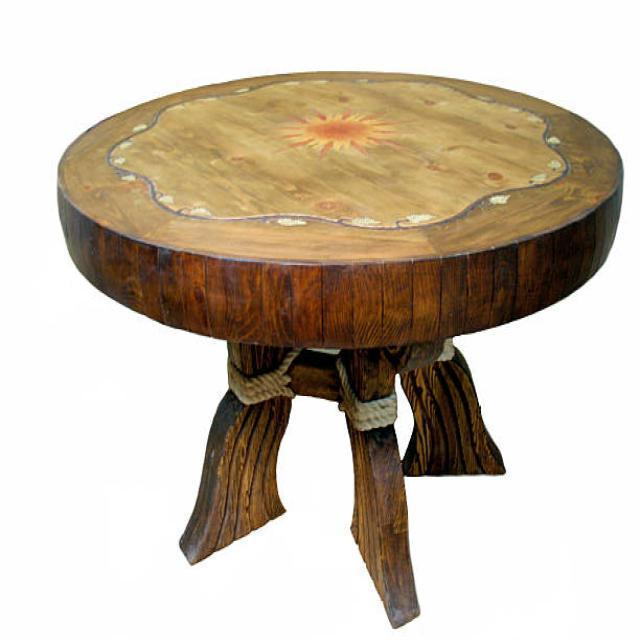table: (56, 68, 624, 628)
